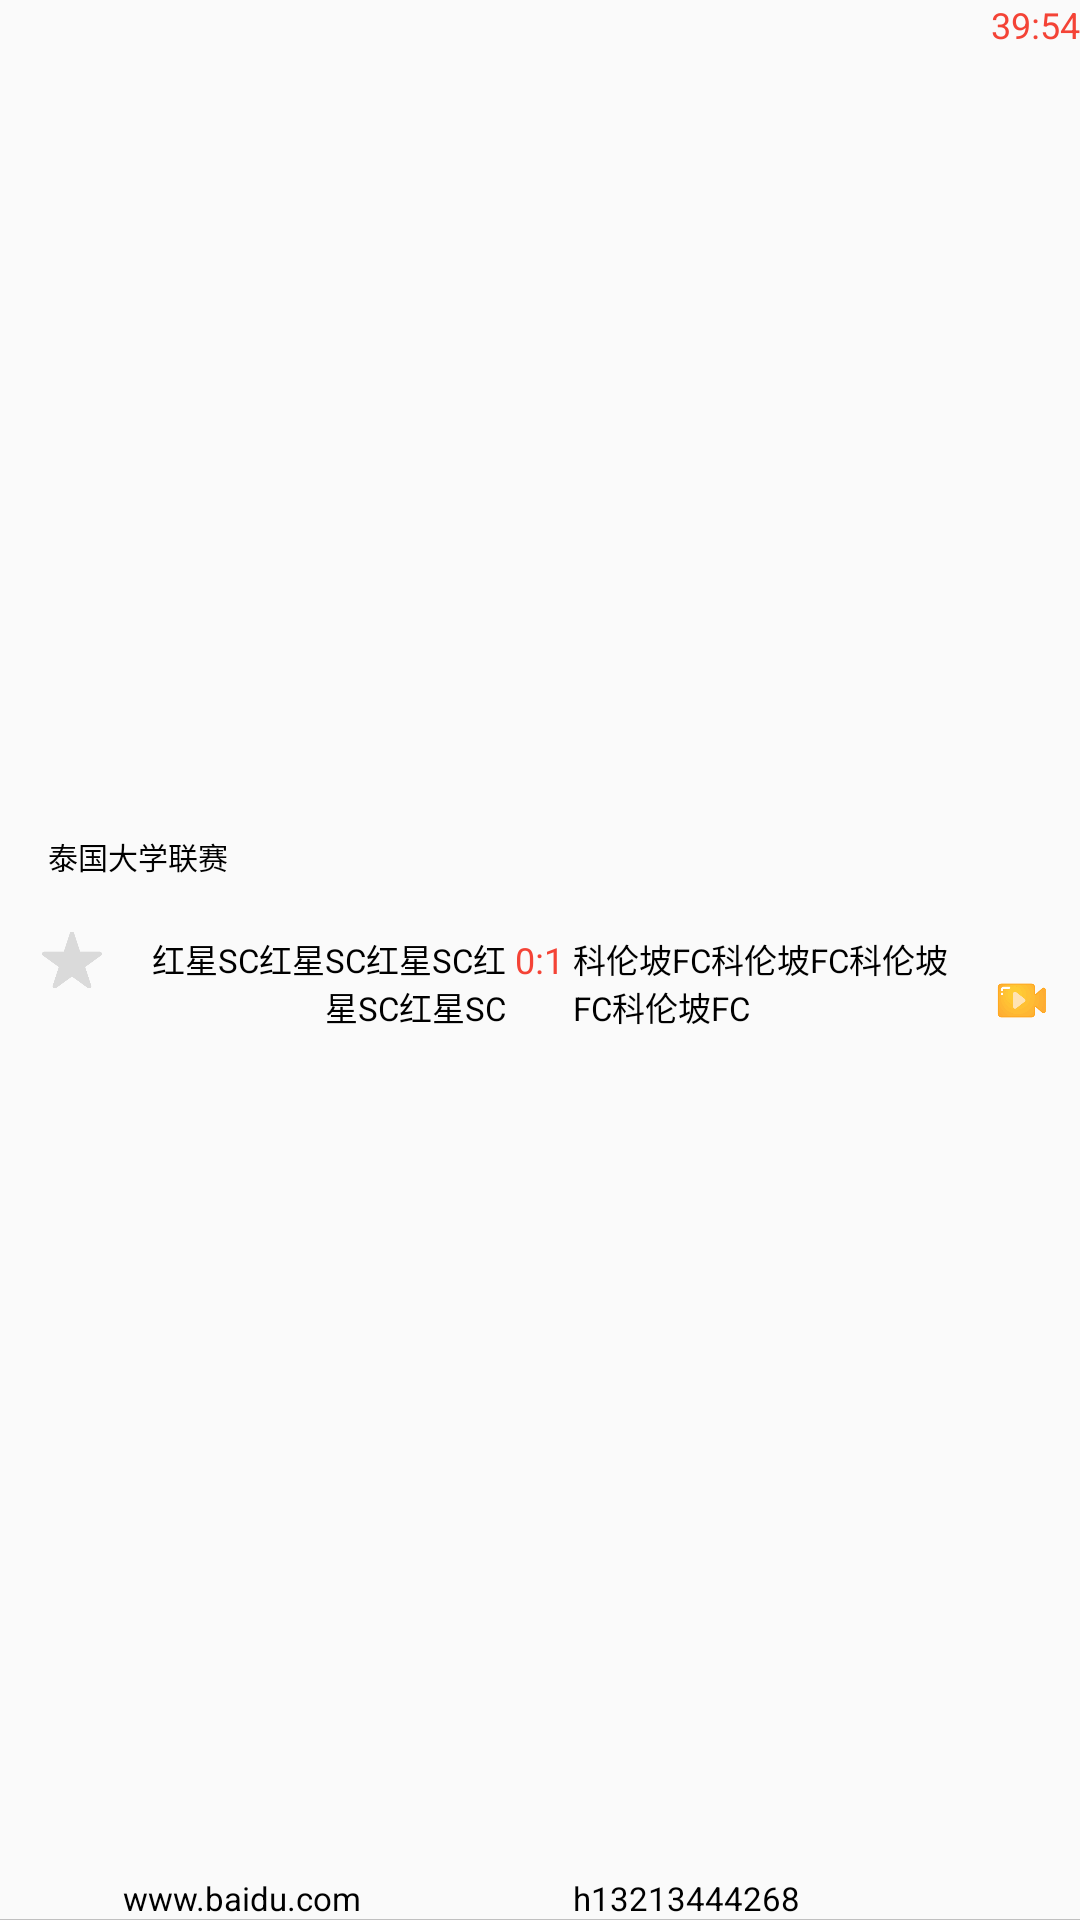

Icons on this 1080 × 1920 Android screen, each with the point to tap as point (x, y):
five pointedstar: point (72, 960)
livebroadcast: point (1022, 1000)
